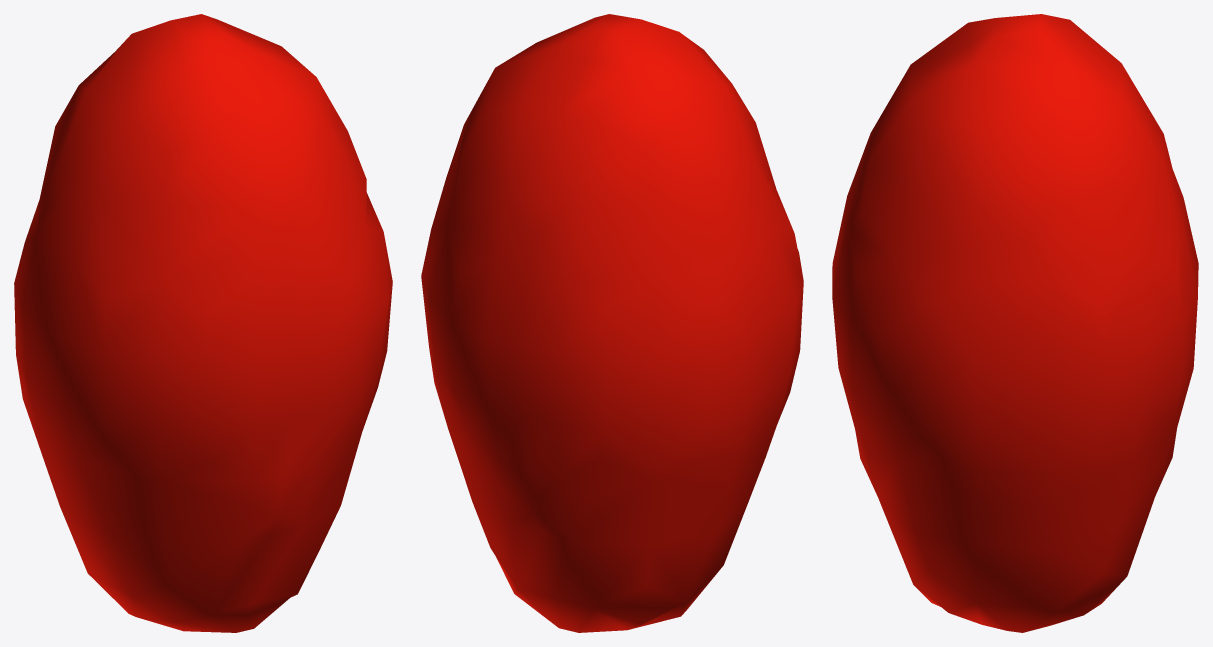
The model's file is crystal__low.fbx.
3 views of the same model, side by side, from view 1: azimuth 30°, elevation 25°; view 2: azimuth 150°, elevation 25°; view 3: azimuth 270°, elevation 25° (orthographic).
Parts seen in each view (by area): view 1: krystal_low; view 2: krystal_low; view 3: krystal_low.
Part boxes in pixels (x1,y1,x2,y2): krystal_low: (14,14,392,632); krystal_low: (421,14,803,632); krystal_low: (832,14,1198,632).
Size of the model in its own units: 250 by 434 by 245.
